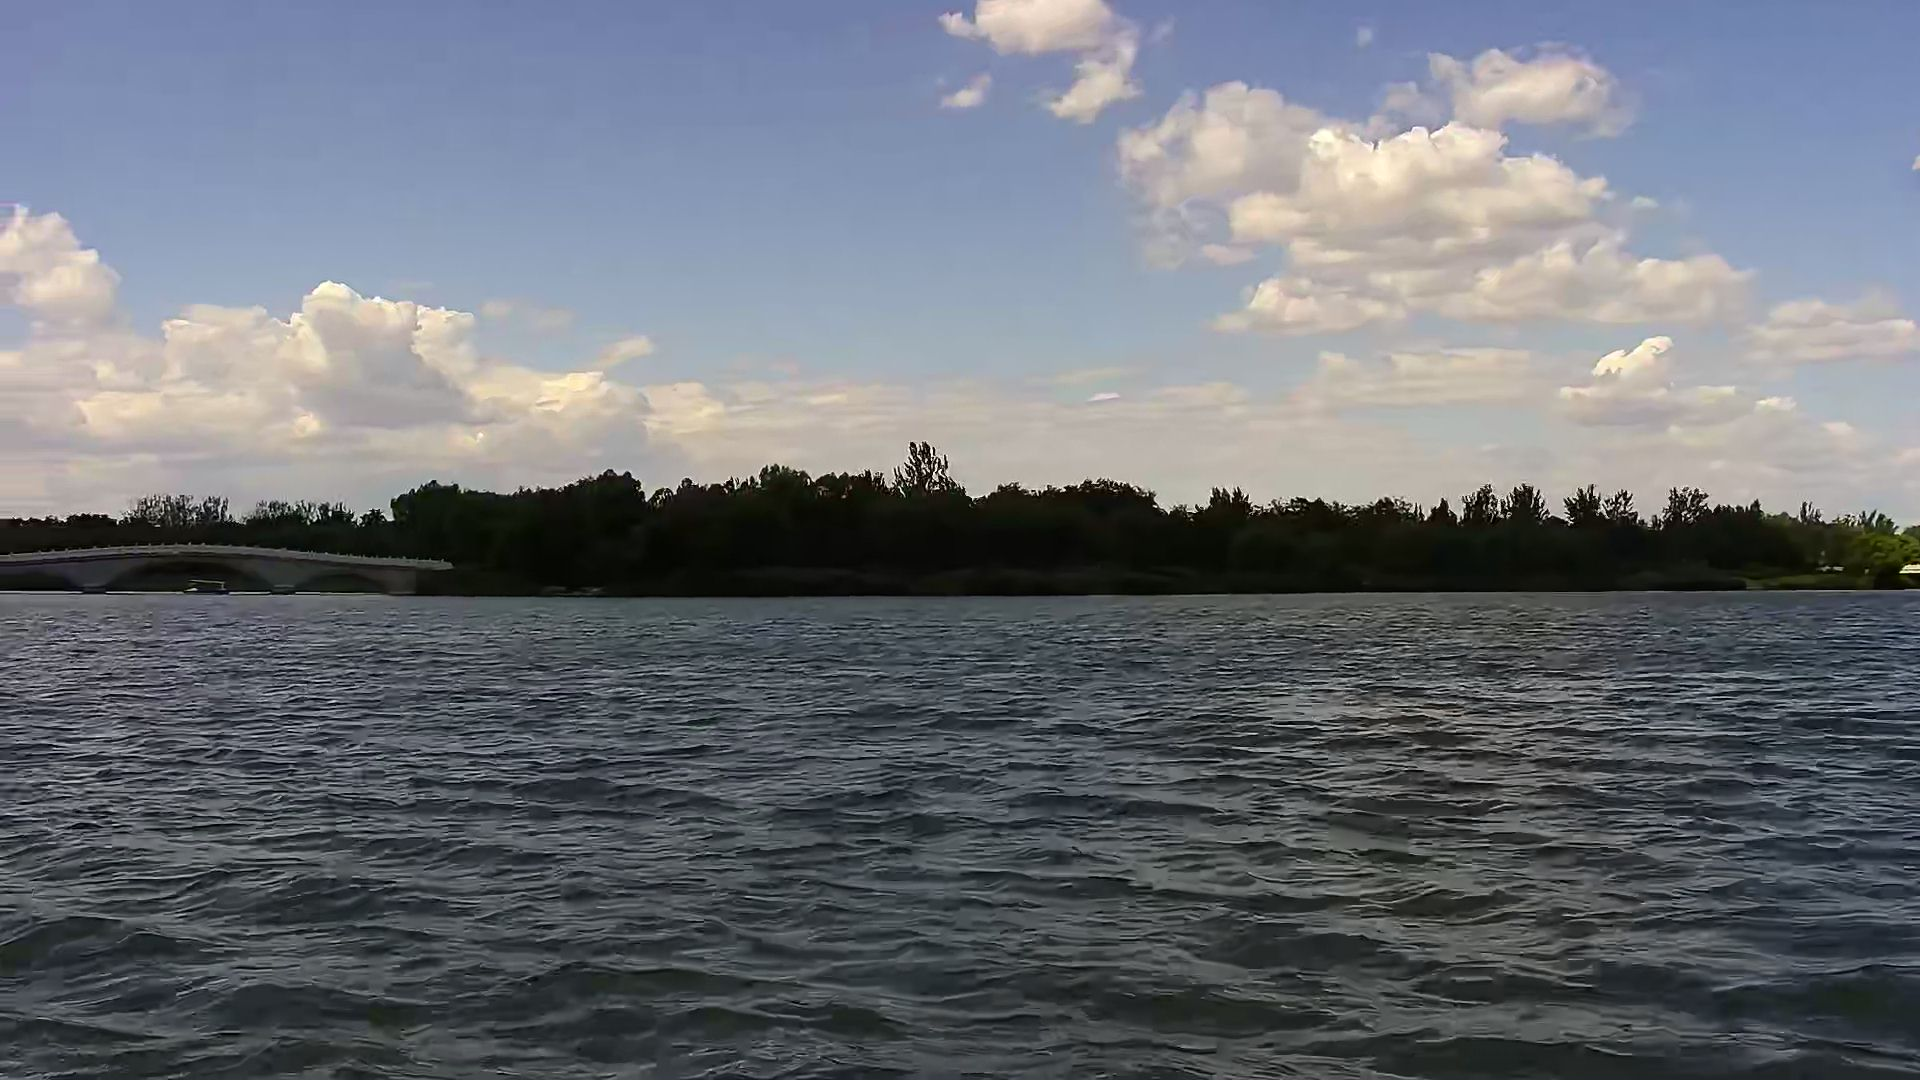boat: (185, 579, 237, 601)
bridge: (1, 547, 450, 597)
